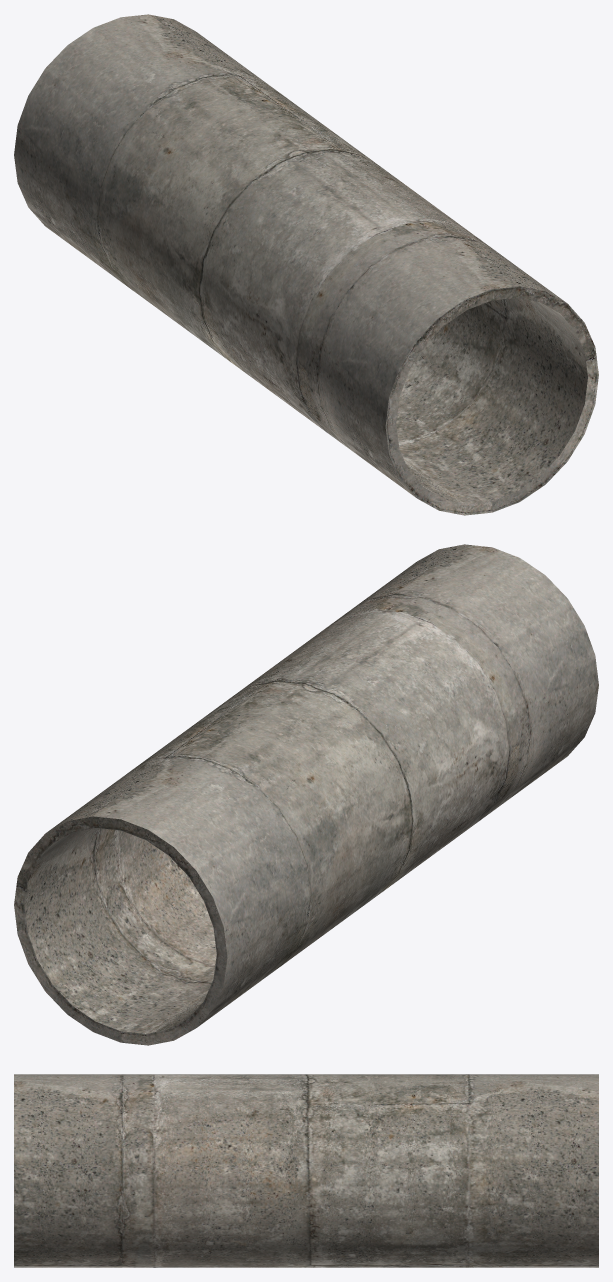
The model's file is Hardtube.fbx.
The picture shows the model from 3 angles, top to bottom: view 1: azimuth 30°, elevation 25°; view 2: azimuth 150°, elevation 25°; view 3: azimuth 270°, elevation 25°; orthographic projection. The views are drawn at different scales.
Parts seen in each view (by area): view 1: pCylinder25; view 2: pCylinder25; view 3: pCylinder25.
Boxes of the visible parts, x1=… form: pCylinder25: x1=14, y1=14, x2=598, y2=515; pCylinder25: x1=14, y1=544, x2=598, y2=1045; pCylinder25: x1=14, y1=1074, x2=598, y2=1267.
Size of the model in its own units: 2.31 by 2.31 by 6.97.
1 material, 1 textured.
